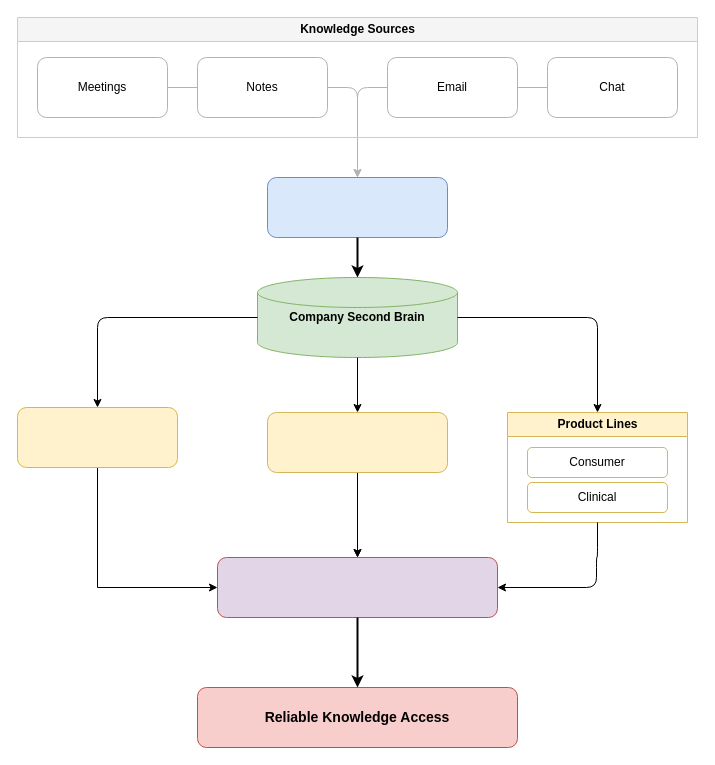
The diagram is 715 pixels wide and 765 high, and some of its shapes have lost their labels. Each missing label, with the centre of its shape:
Decisions & Projects: point 357,442
Knowledge Capture: point 357,207
Search & AI Retrieval: point 357,587
Strategy & Goals: point 97,437
